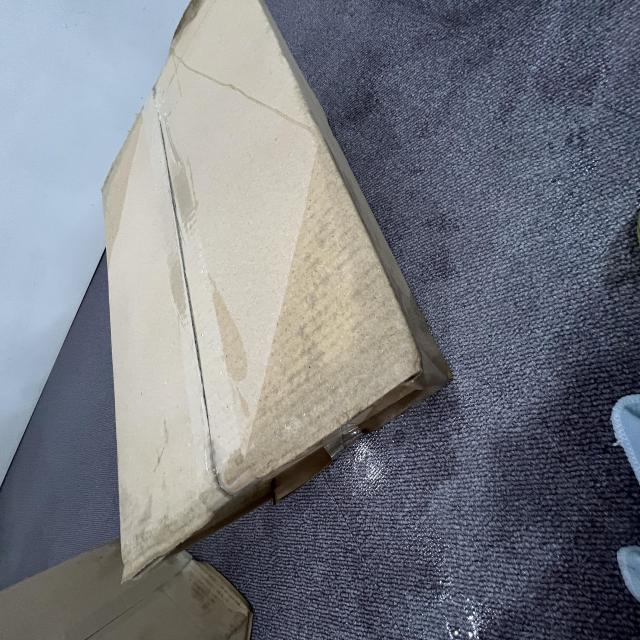wet: (117, 324, 370, 566)
